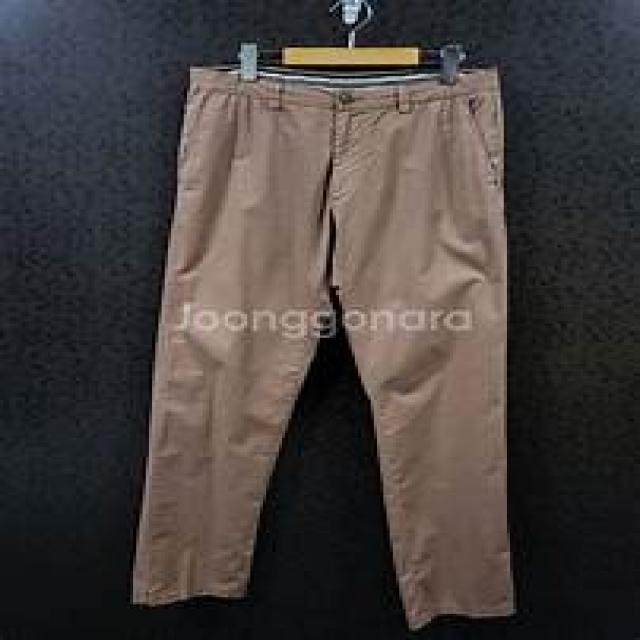long-pants: (134, 63, 521, 633)
